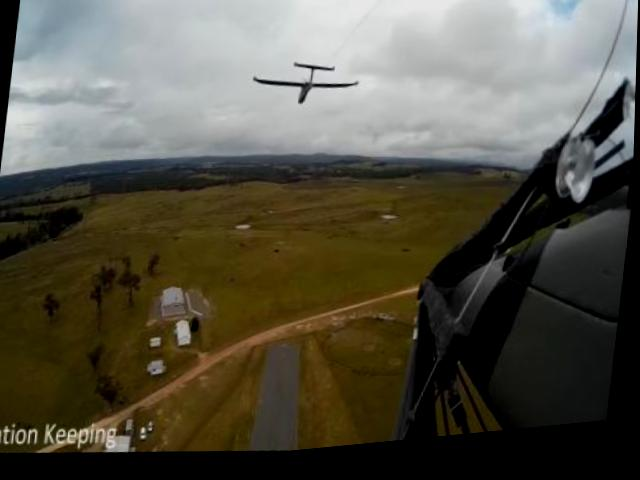uav: (248, 55, 364, 120)
